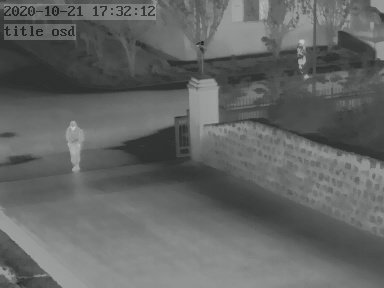person: (65, 118, 84, 171)
